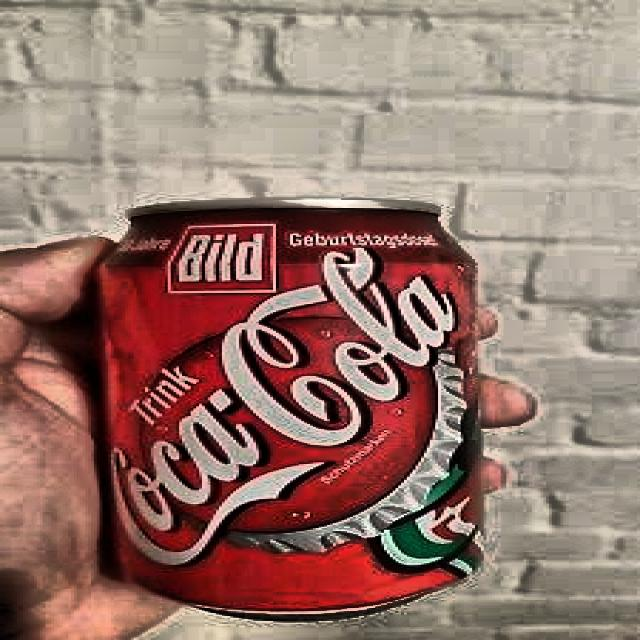Cans: (75, 177, 481, 622)
